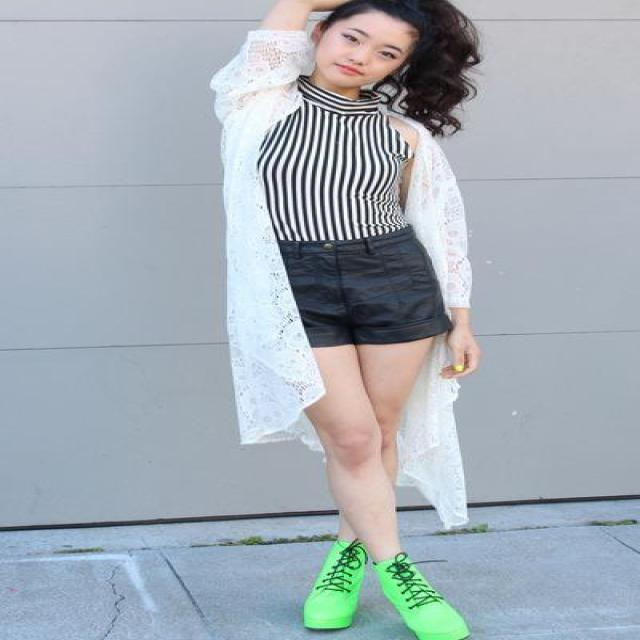jacket: (212, 26, 470, 524)
shirt: (262, 75, 418, 240)
shoe: (304, 539, 467, 639)
shorts: (274, 218, 452, 346)
